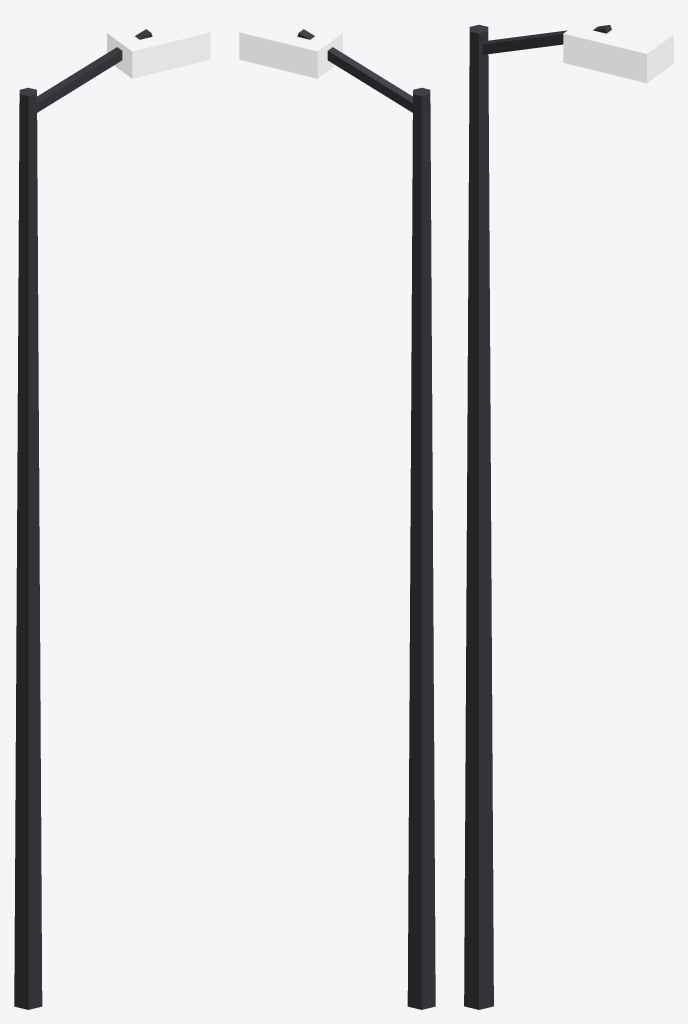
File: cond_lamp_post.glb
3 renders of one model, left to right at view 1: azimuth 30°, elevation 25°; view 2: azimuth 150°, elevation 25°; view 3: azimuth 330°, elevation 25°, orthographic. The views are drawn at different scales.
Visible parts, largest first — view 1: cond_lamp_post; view 2: cond_lamp_post; view 3: cond_lamp_post.
Boxes of the visible parts, x1,y1,x2,y2 form: cond_lamp_post: (14, 14, 210, 1009); cond_lamp_post: (239, 14, 435, 1009); cond_lamp_post: (464, 14, 673, 1009).
Bounding box in the file's own units: 2.11 × 10.35 × 0.5.
Materials: 2 (1 with a texture image).
